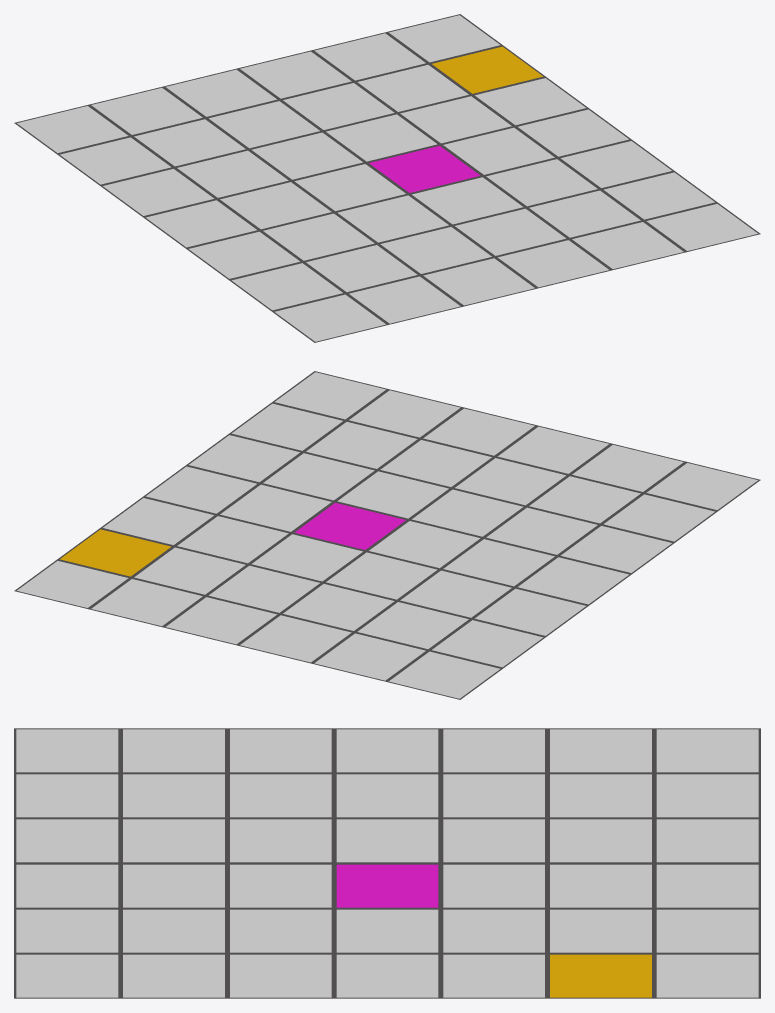
3 renders of one model, top to bottom at view 1: azimuth 30°, elevation 25°; view 2: azimuth 150°, elevation 25°; view 3: azimuth 270°, elevation 25°, orthographic. The views are drawn at different scales.
Parts seen in each view (by area): view 1: Plane.001; view 2: Plane.001; view 3: Plane.001.
Boxes of the visible parts, x1,y1,x2,y2 form: Plane.001: (14,14,760,342); Plane.001: (14,371,760,699); Plane.001: (14,728,760,998).
Bounding box in the file's own units: 921 × 4.02e-05 × 1074.
